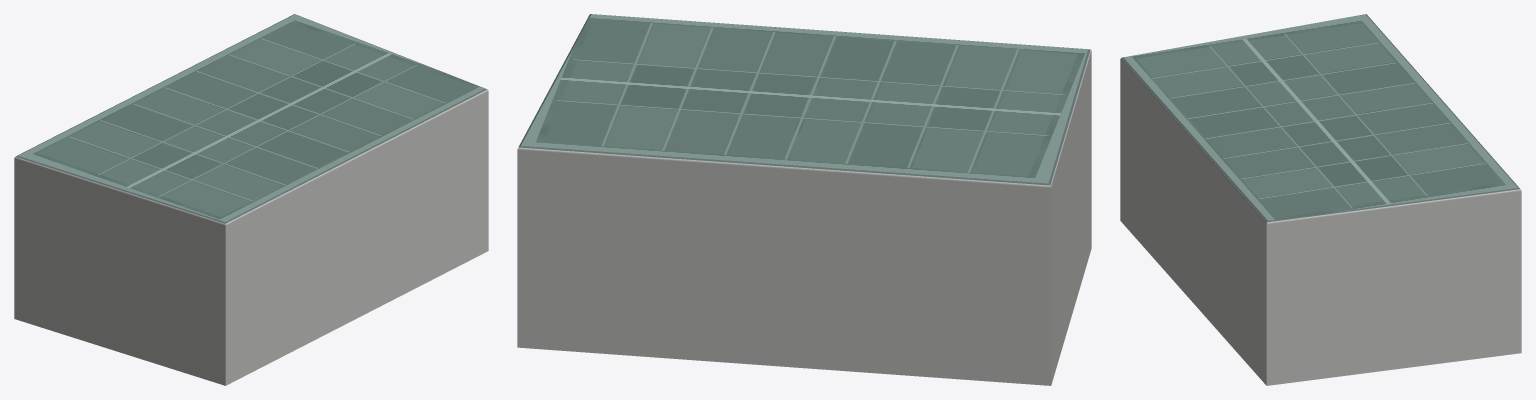
Rendered from intact.glb.
The picture shows the model from 3 angles, left to right: view 1: azimuth 30°, elevation 25°; view 2: azimuth 150°, elevation 25°; view 3: azimuth 270°, elevation 25°; orthographic projection. The views are drawn at different scales.
Visible parts, largest first — view 1: SM_gh31_Intact_00; view 2: SM_gh31_Intact_00; view 3: SM_gh31_Intact_00.
Part boxes in pixels (<box>): SM_gh31_Intact_00: <box>14,14,488,385</box>; SM_gh31_Intact_00: <box>517,14,1091,385</box>; SM_gh31_Intact_00: <box>1120,14,1521,385</box>.
Bounding box in the file's own units: 2.2 × 0.807 × 1.78.
3 materials, 1 textured.
